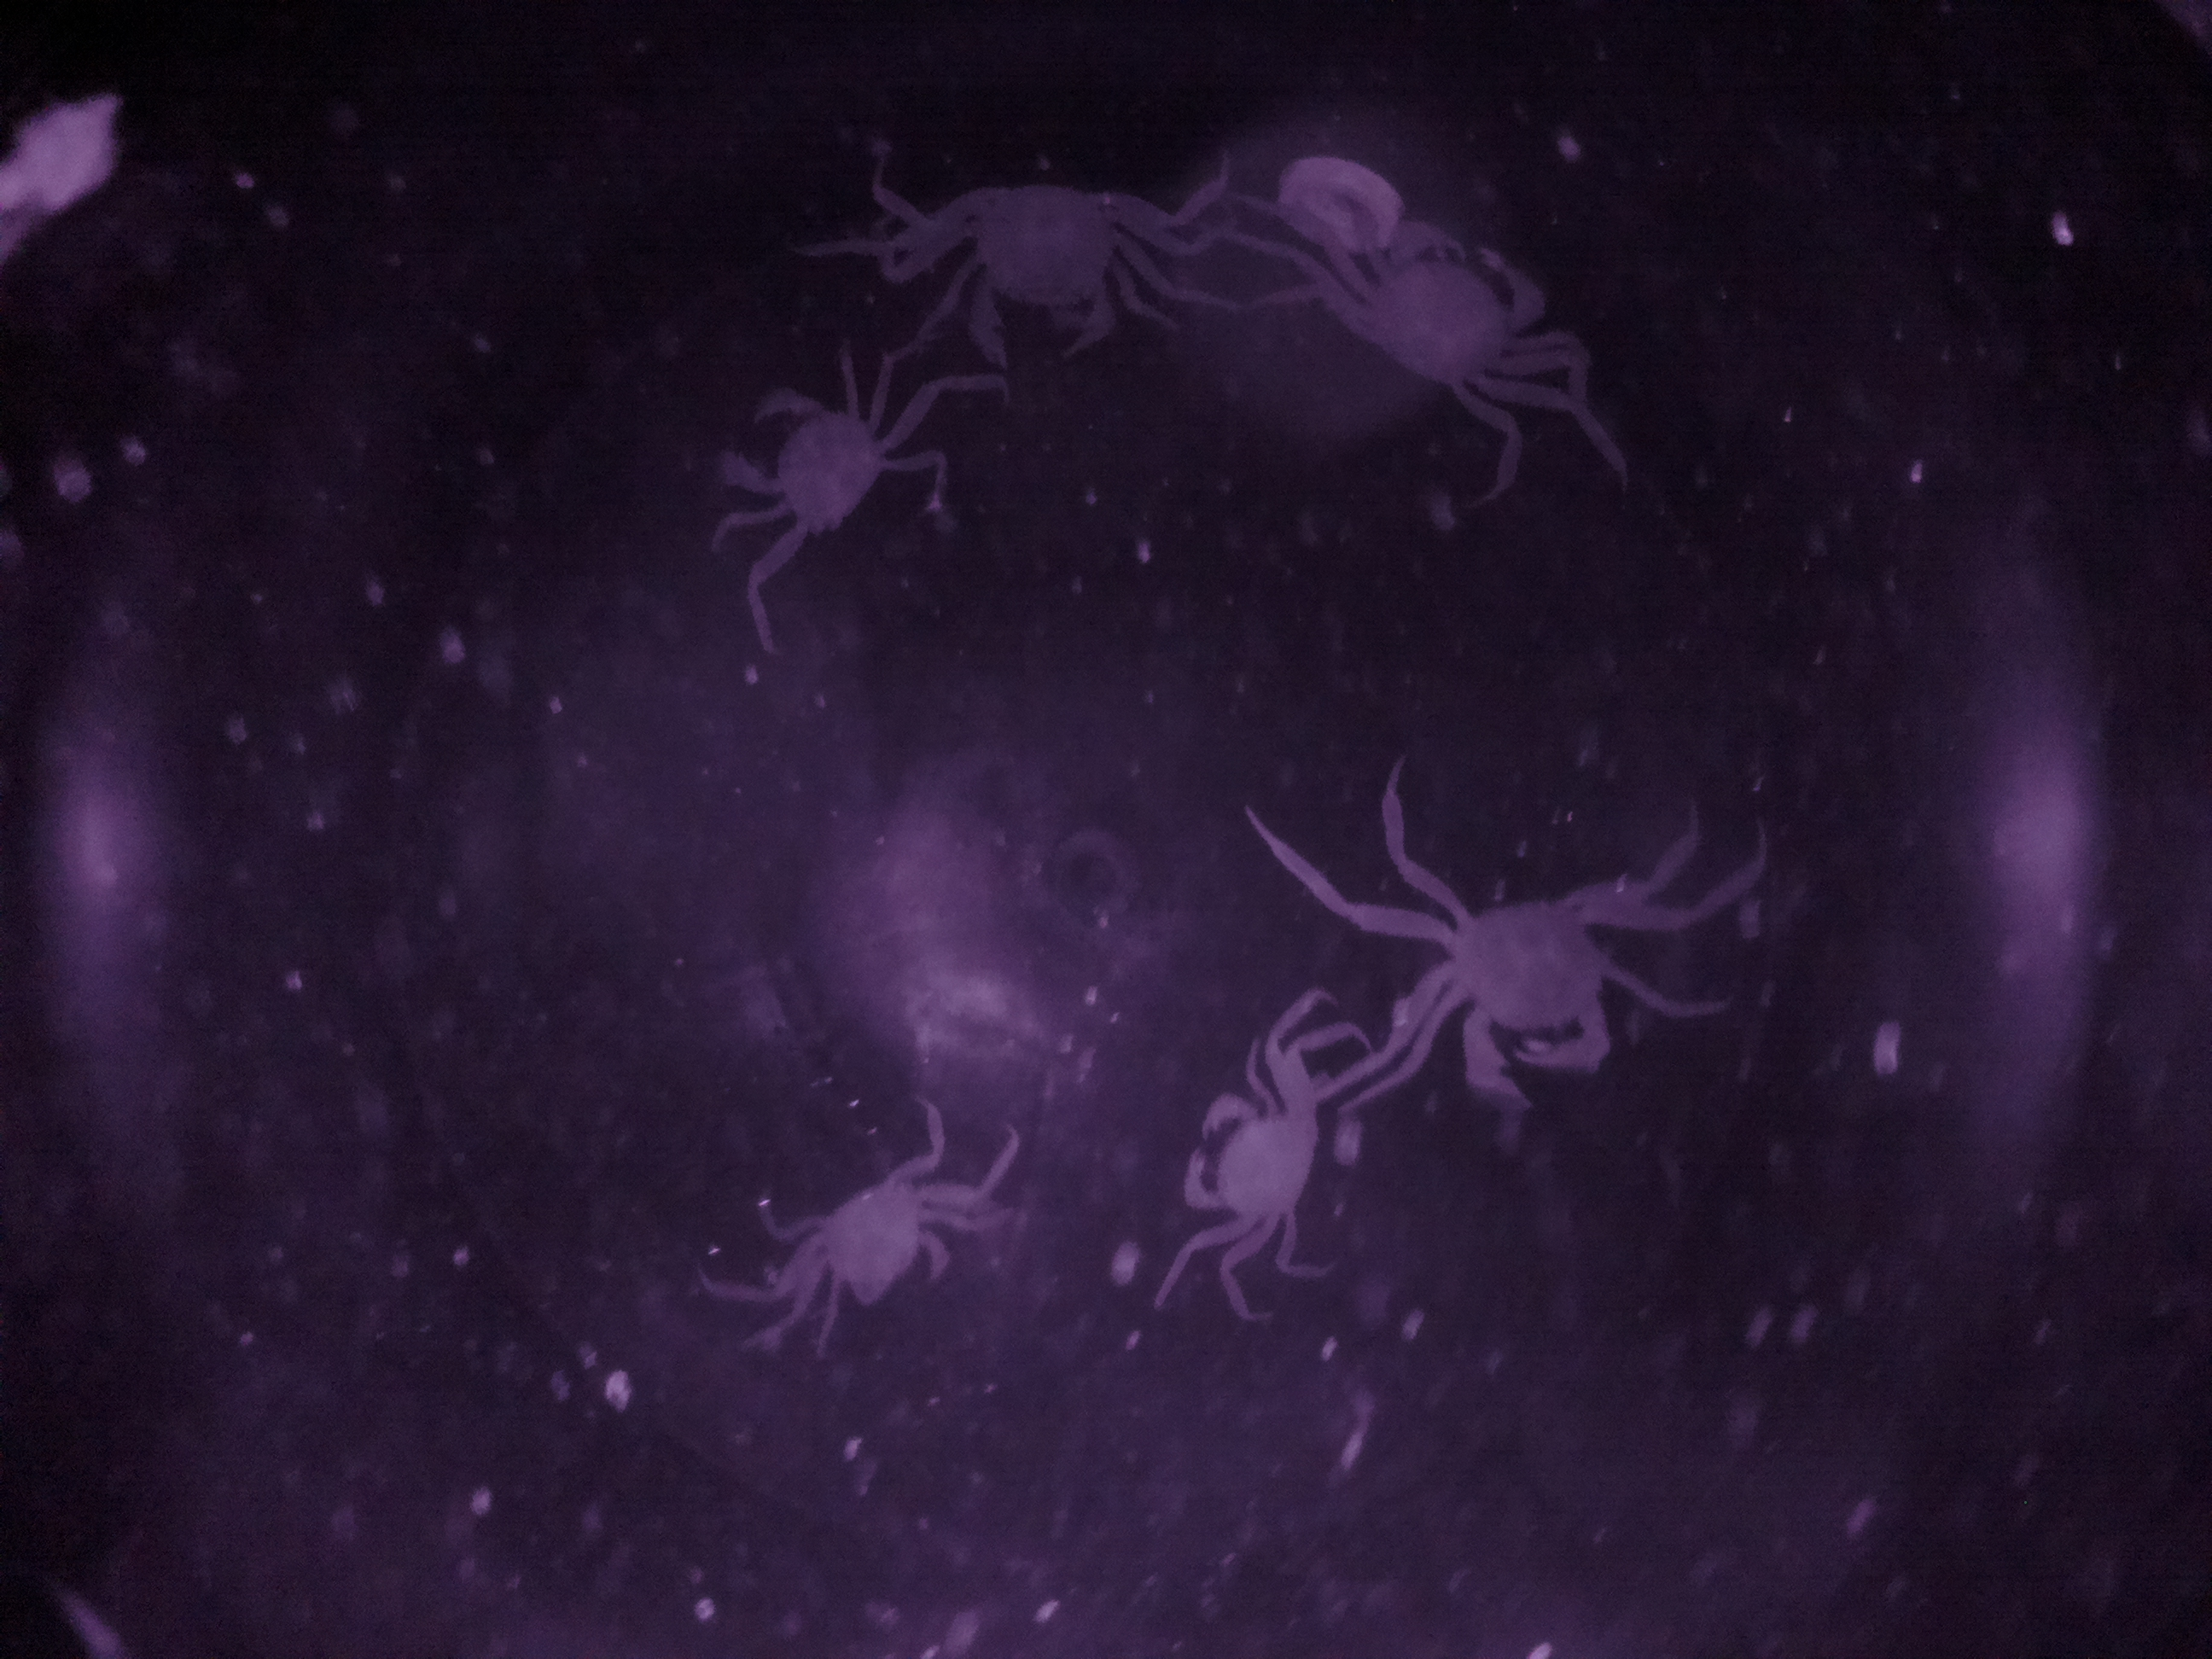Crab: (1301, 195, 1625, 471), (1362, 850, 1688, 1121), (878, 146, 1181, 394), (685, 361, 939, 573), (1157, 1039, 1359, 1288), (761, 1129, 989, 1345)
